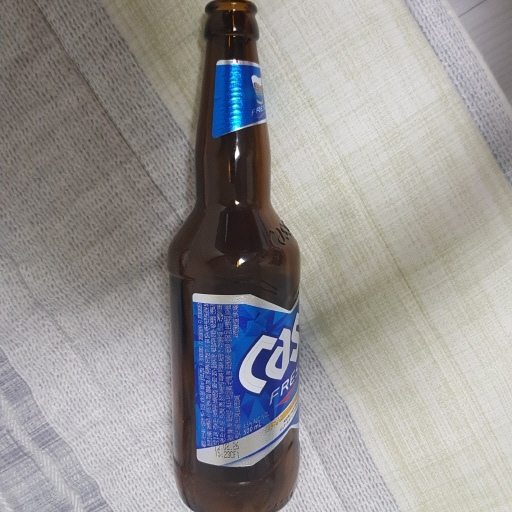Glass_1: (165, 1, 303, 512)
